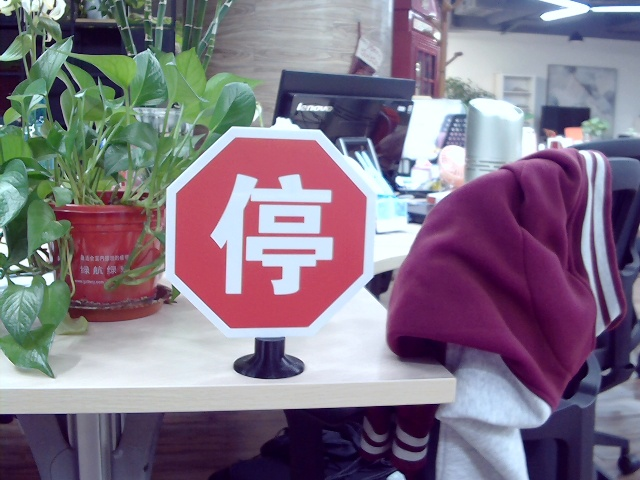stop: (209, 168, 333, 297)
